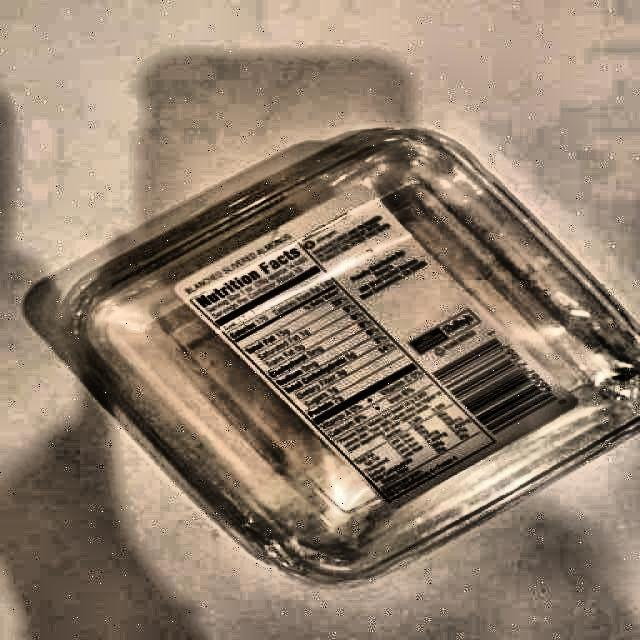plastic: (25, 129, 639, 581)
